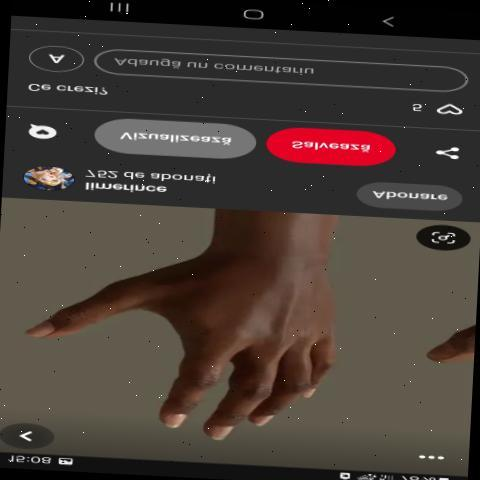Hands: (19, 250, 377, 454)
